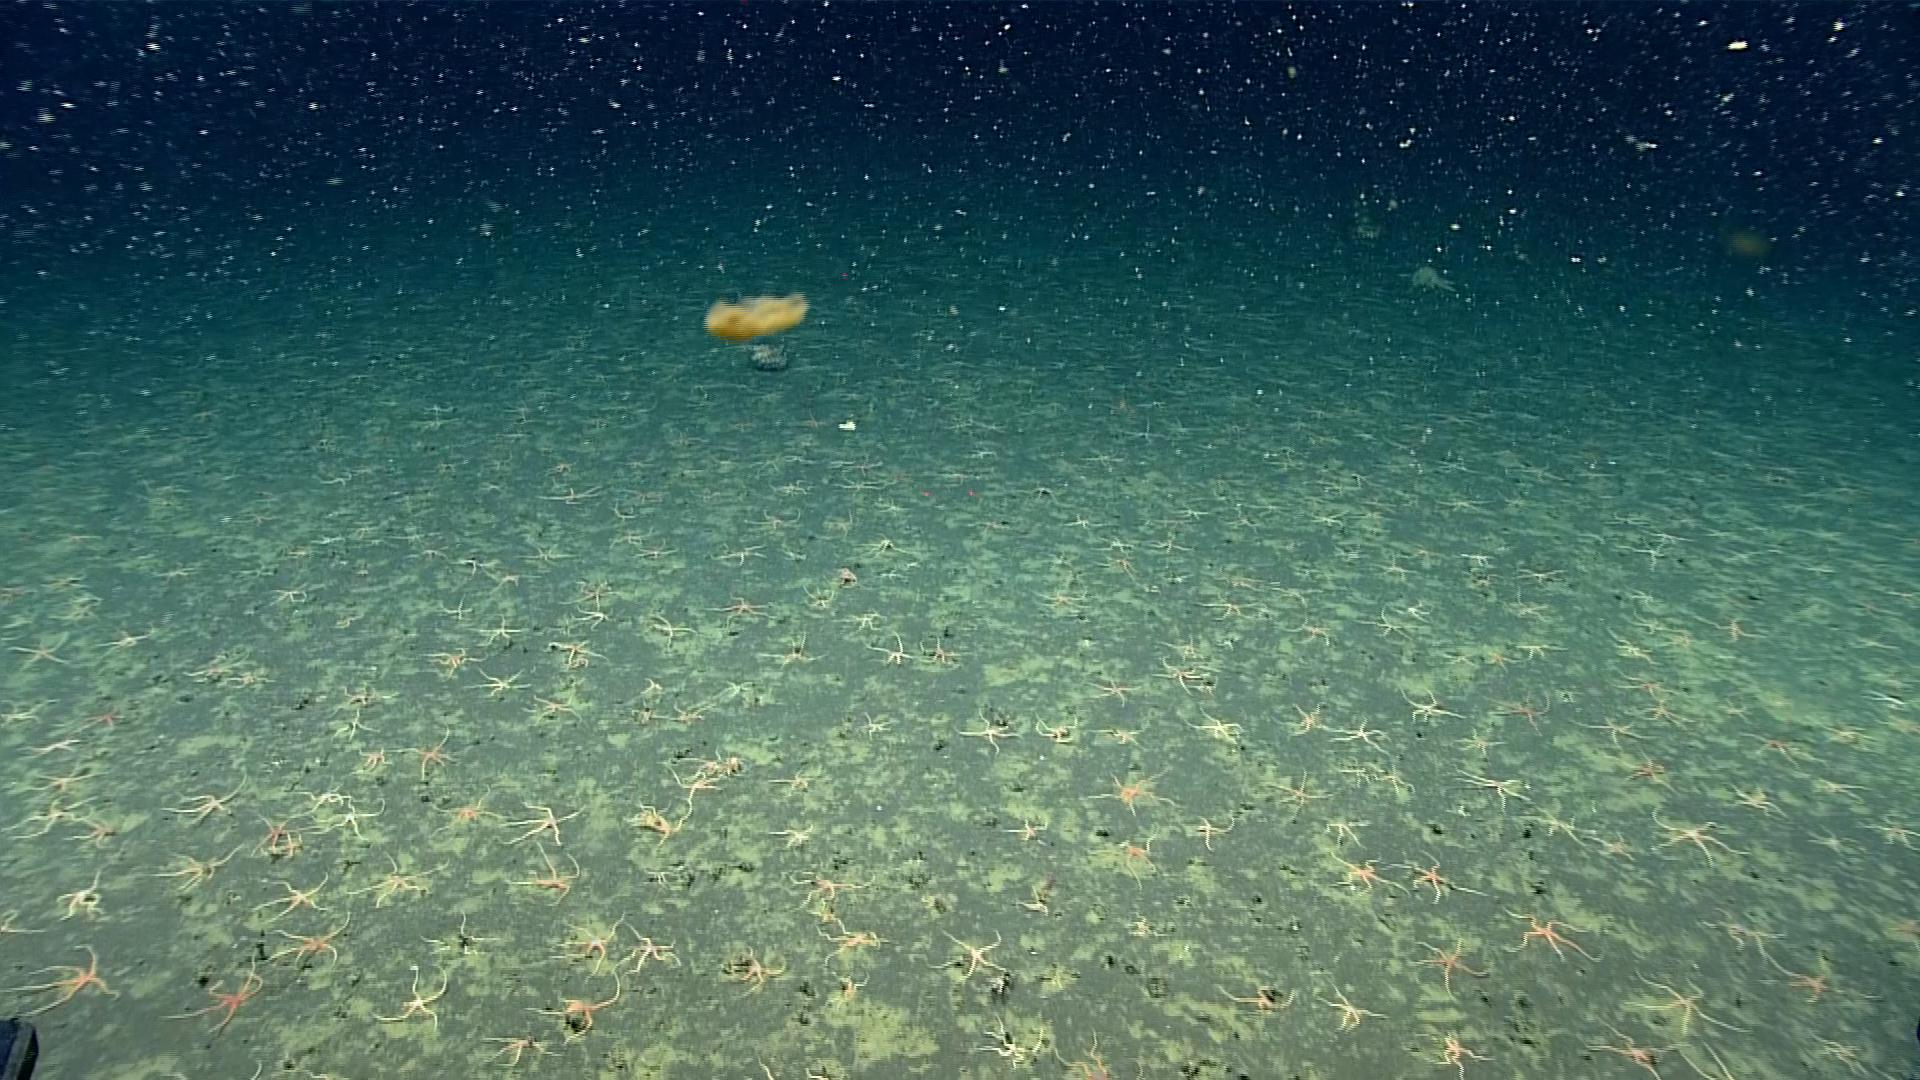brittle_sea_star: (3, 943, 121, 1014), (161, 955, 262, 1031), (1629, 967, 1738, 1036), (1643, 807, 1746, 866), (1755, 951, 1866, 1004), (1503, 907, 1600, 965), (1588, 1017, 1676, 1079), (373, 963, 448, 1033), (547, 914, 624, 982), (1399, 849, 1485, 907), (927, 926, 1011, 984), (527, 986, 616, 1042), (0, 793, 99, 841), (150, 843, 243, 894), (349, 856, 440, 907), (1411, 936, 1489, 996), (500, 799, 585, 848), (1701, 910, 1785, 957), (1313, 978, 1386, 1033), (1088, 770, 1178, 814), (422, 785, 497, 836), (268, 919, 347, 968), (513, 849, 582, 903), (1328, 852, 1403, 901), (417, 911, 495, 957), (389, 729, 464, 777), (1456, 764, 1531, 811), (615, 926, 682, 978), (1518, 802, 1593, 848), (160, 785, 244, 825), (1106, 828, 1164, 887), (978, 1014, 1042, 1067), (955, 708, 1021, 756), (661, 764, 721, 815), (255, 873, 328, 915), (1259, 769, 1328, 814), (785, 872, 868, 909), (812, 919, 886, 960), (12, 760, 99, 794), (313, 800, 386, 840), (1055, 1031, 1116, 1079), (4, 629, 74, 670), (725, 952, 789, 997), (1213, 981, 1295, 1015), (628, 796, 684, 844), (54, 869, 109, 916), (477, 1030, 551, 1065), (1677, 1040, 1745, 1079), (1270, 700, 1337, 737), (1746, 729, 1811, 767), (468, 612, 534, 649), (1614, 750, 1671, 793), (1398, 687, 1460, 725), (709, 591, 773, 626), (1429, 1033, 1486, 1072), (464, 666, 531, 699), (1577, 712, 1650, 742), (422, 644, 485, 676), (761, 633, 822, 667), (247, 814, 298, 853), (1811, 1031, 1867, 1067), (1495, 695, 1552, 729), (1361, 605, 1412, 642), (529, 690, 582, 725), (1154, 657, 1204, 694), (1185, 812, 1237, 848), (638, 612, 694, 645), (1187, 708, 1242, 741), (1164, 629, 1220, 662), (869, 632, 914, 669), (546, 637, 603, 666), (1331, 719, 1385, 749), (1320, 815, 1371, 847), (684, 749, 745, 775), (1869, 818, 1919, 849), (1027, 584, 1087, 611), (1729, 783, 1778, 815), (95, 628, 148, 657), (1001, 816, 1054, 845), (1589, 829, 1635, 862), (1366, 553, 1418, 582), (327, 708, 376, 738), (1089, 675, 1138, 705), (185, 653, 237, 680), (915, 634, 965, 663), (568, 600, 618, 629), (1195, 595, 1255, 618), (1626, 669, 1668, 702), (74, 816, 127, 843), (18, 737, 83, 758), (1288, 615, 1329, 647), (1096, 530, 1142, 559), (1089, 550, 1139, 576), (0, 909, 42, 939), (1712, 616, 1758, 644), (1034, 715, 1077, 744), (299, 783, 349, 808), (1377, 765, 1416, 796), (1808, 828, 1855, 855), (1092, 723, 1147, 745), (1455, 731, 1507, 753), (852, 711, 893, 738), (533, 487, 599, 504), (716, 539, 758, 566), (1505, 597, 1551, 621), (1886, 914, 1919, 947), (328, 684, 378, 705), (740, 512, 796, 530), (832, 971, 866, 1001), (773, 823, 816, 847), (669, 702, 713, 724), (1017, 885, 1048, 916), (862, 530, 899, 556), (483, 571, 535, 589), (1824, 719, 1865, 742), (1149, 530, 1188, 554), (1396, 596, 1432, 622), (1812, 777, 1862, 795), (775, 769, 816, 791), (1170, 500, 1211, 522), (827, 563, 862, 588), (843, 608, 885, 629), (1648, 707, 1687, 729), (1480, 647, 1515, 671), (1854, 632, 1894, 653), (1516, 641, 1564, 658), (148, 562, 195, 579), (232, 667, 270, 688), (80, 707, 119, 728), (1522, 564, 1565, 583), (1344, 761, 1374, 787), (803, 584, 833, 611), (357, 746, 389, 771), (864, 497, 905, 516), (269, 584, 309, 603), (575, 584, 608, 605), (446, 556, 492, 571), (1304, 510, 1346, 526), (1634, 543, 1672, 560), (1718, 695, 1747, 717), (641, 675, 669, 696), (442, 601, 469, 618), (630, 705, 655, 724), (1069, 512, 1092, 529), (611, 531, 642, 543)
